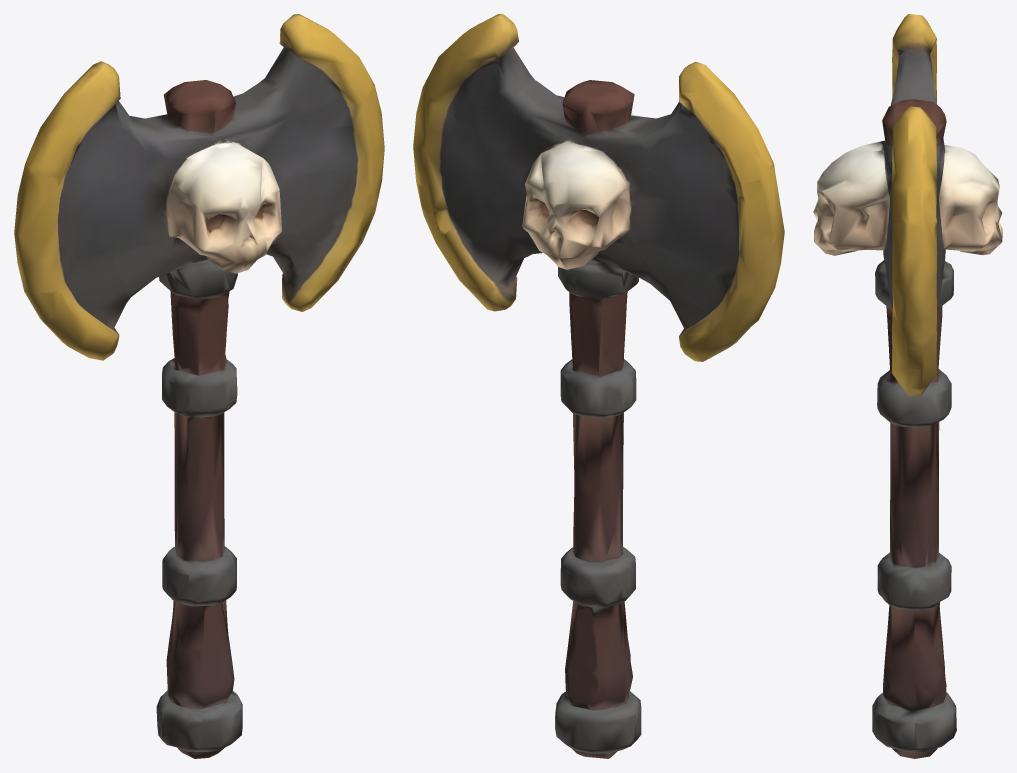
Rendered from BoneLord_Axe-BDl0NjMI.glb.
3 views of the same model, side by side, from view 1: azimuth 30°, elevation 25°; view 2: azimuth 150°, elevation 25°; view 3: azimuth 270°, elevation 25° (orthographic). The views are drawn at different scales.
Visible parts, largest first — view 1: tripo_node_662a7104-fe26-40ac-b2a1-6497429fe842; view 2: tripo_node_662a7104-fe26-40ac-b2a1-6497429fe842; view 3: tripo_node_662a7104-fe26-40ac-b2a1-6497429fe842.
Boxes of the visible parts, x1,y1,x2,y2 form: tripo_node_662a7104-fe26-40ac-b2a1-6497429fe842: (14,14,384,758); tripo_node_662a7104-fe26-40ac-b2a1-6497429fe842: (413,14,784,758); tripo_node_662a7104-fe26-40ac-b2a1-6497429fe842: (813,14,1002,758).
Bounding box in the file's own units: 1.01 × 1.89 × 0.4702.
Materials: 1 (1 with a texture image).
